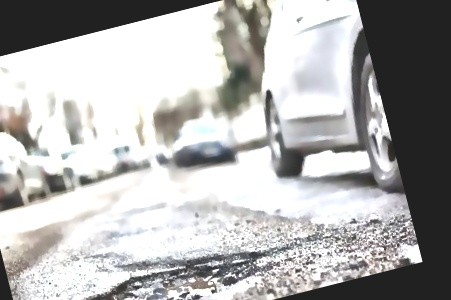pothole: (70, 227, 271, 300)
